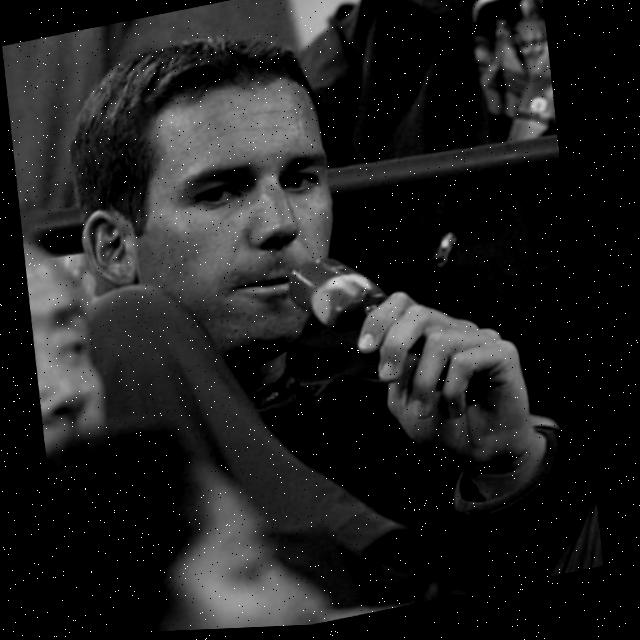face: (77, 10, 400, 397)
